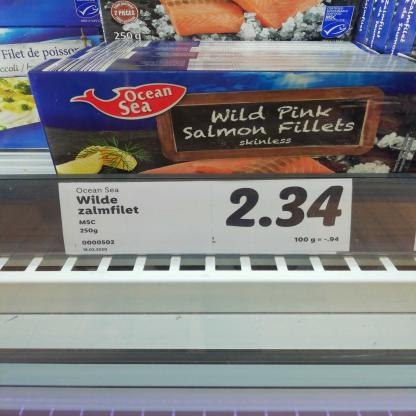prtg: (58, 180, 353, 256)
